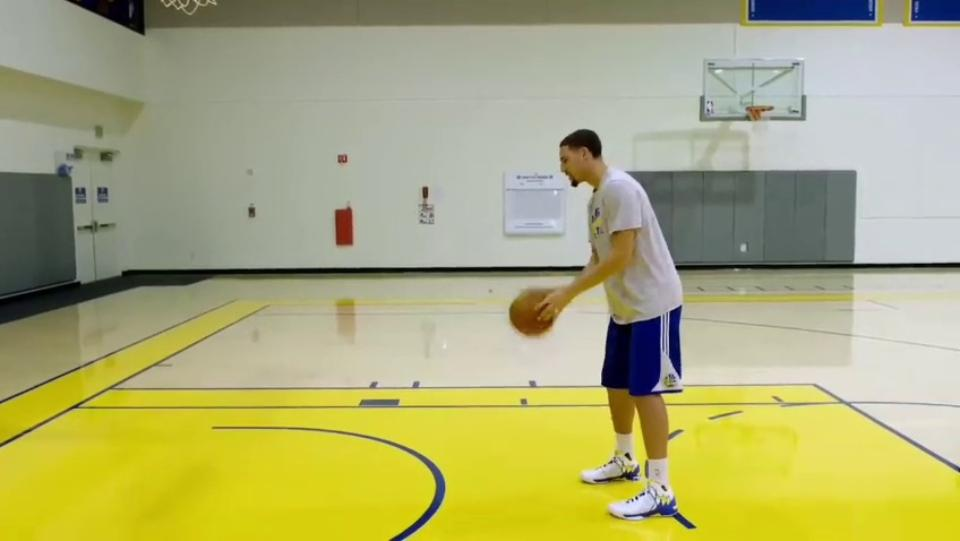hoop: (745, 105, 774, 118)
